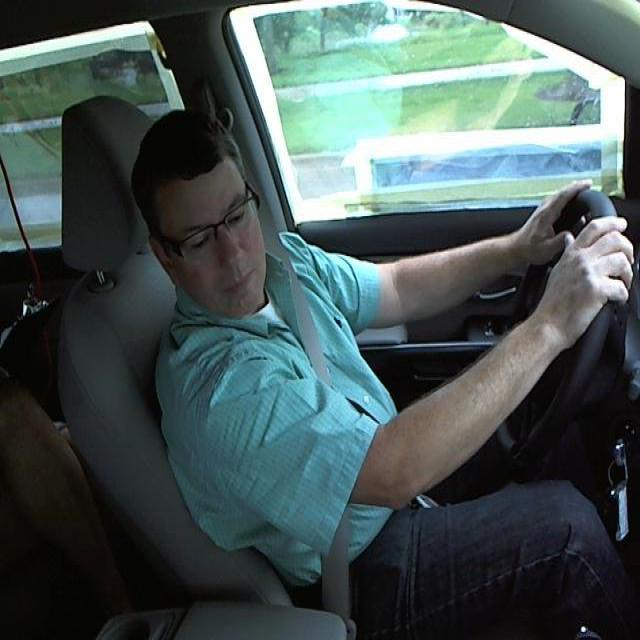seatbelt: (306, 300, 364, 600)
